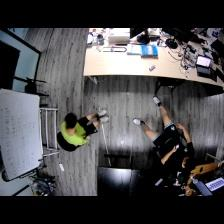normal: (134, 96, 195, 171), (60, 109, 112, 148)
